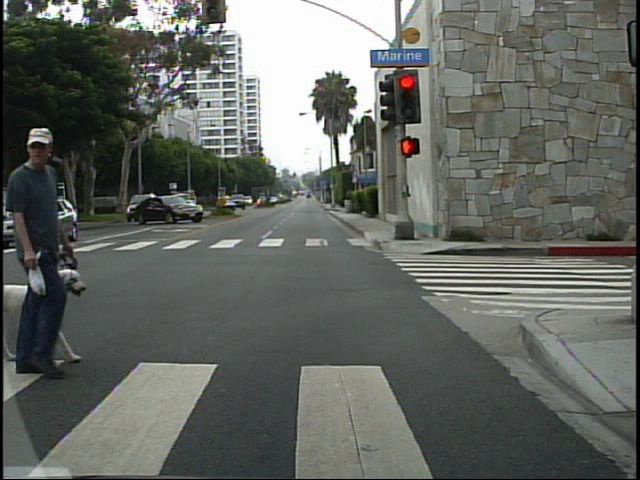person: (6, 114, 91, 381)
